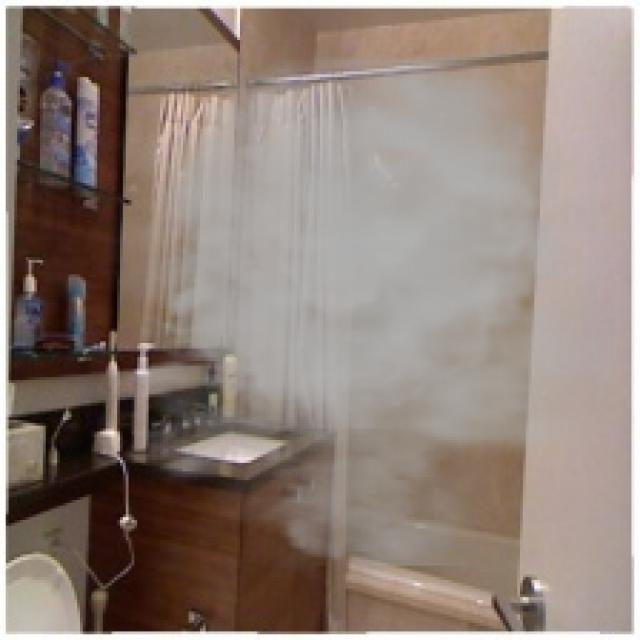Smoke: (71, 26, 614, 566)
